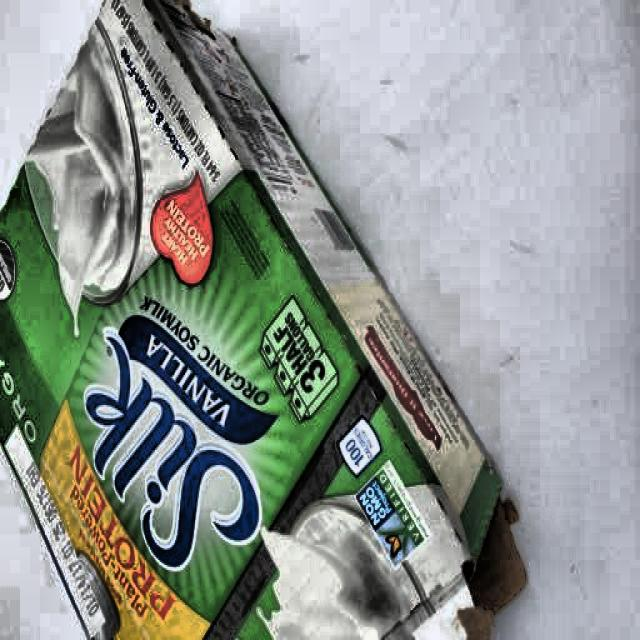cardboard: (11, 5, 530, 640)
